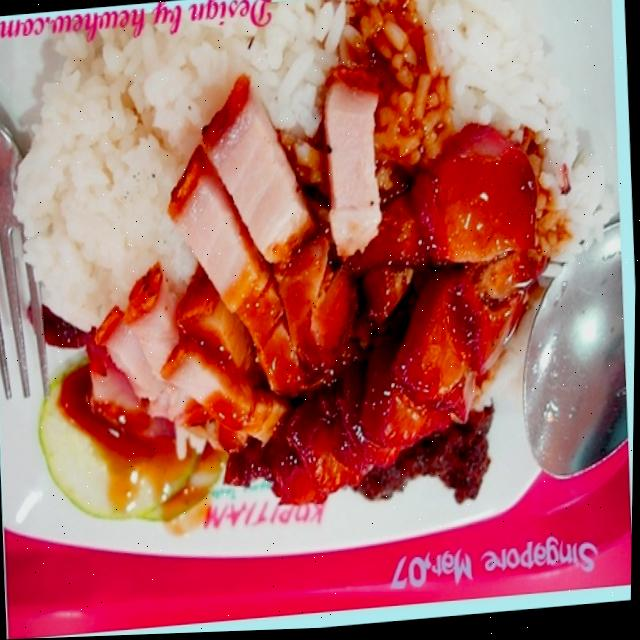猪肉菜式: (0, 1, 621, 590)
